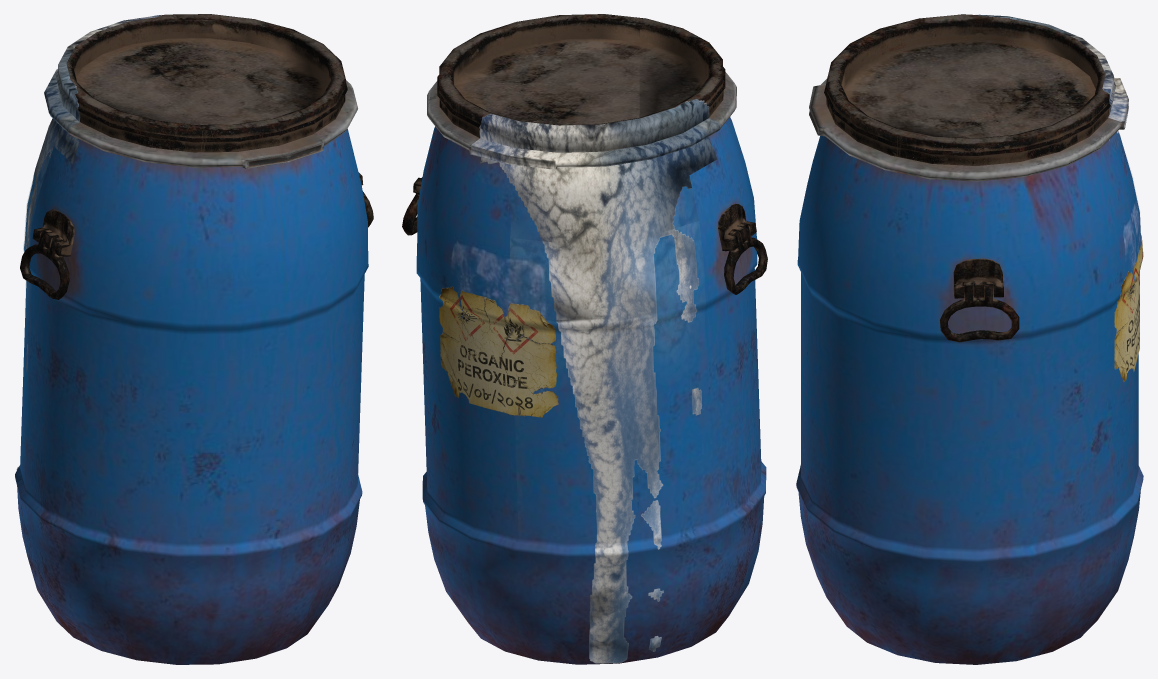
The model's file is Sc03Drum.glb.
3 views of the same model, side by side, from view 1: azimuth 30°, elevation 25°; view 2: azimuth 150°, elevation 25°; view 3: azimuth 270°, elevation 25° (orthographic).
Parts seen in each view (by area): view 1: defaultMaterial.002; view 2: defaultMaterial.002; view 3: defaultMaterial.002.
Part boxes in pixels (<box>): defaultMaterial.002: <box>15,14,373,664</box>; defaultMaterial.002: <box>402,14,767,664</box>; defaultMaterial.002: <box>796,14,1143,664</box>.
Bounding box in the file's own units: 3.03 × 4.82 × 2.78.
Materials: 3 (3 with a texture image).
